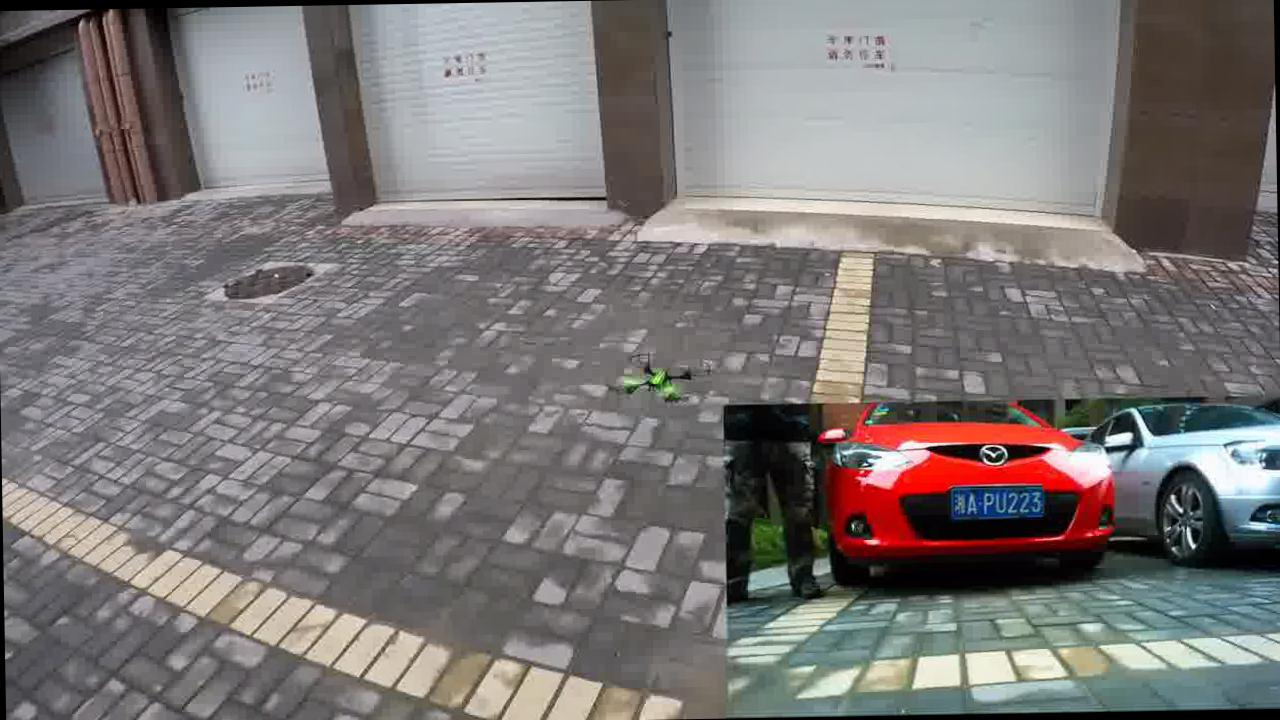drone: (607, 346, 714, 404)
